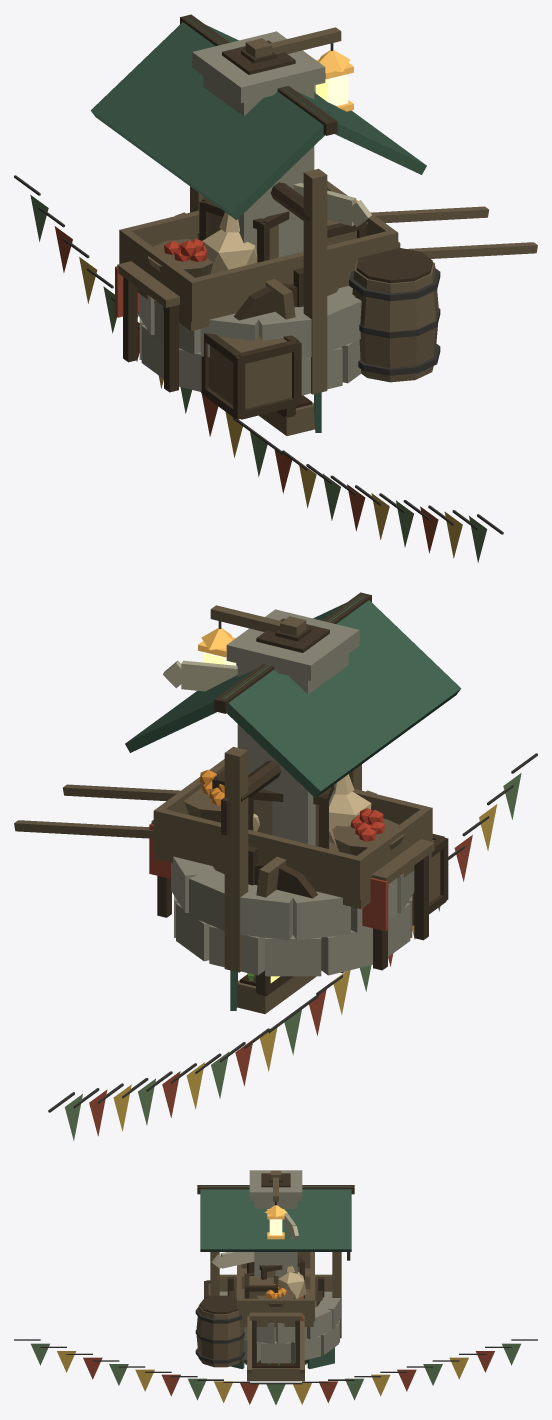
Rendered from mossgate-props.glb.
3 renders of one model, top to bottom at view 1: azimuth 30°, elevation 25°; view 2: azimuth 150°, elevation 25°; view 3: azimuth 270°, elevation 25°, orthographic. The views are drawn at different scales.
Parts seen in each view (by area): view 1: Well, StallCounter, Cart, Chimney, Bunting, LanternPost, CrateStack, WindowBox, Signpost, Bench; view 2: Well, Cart, StallCounter, Chimney, Bunting, LanternPost, WindowBox, Signpost, CrateStack, Bench; view 3: Well, Bunting, StallCounter, Cart, Chimney, WindowBox, Signpost, LanternPost, Bench, CrateStack.
Part boxes in pixels (x1,y1,x2,y2): Well: (90, 14, 426, 395); StallCounter: (115, 200, 440, 419); Cart: (119, 181, 537, 330); Chimney: (192, 31, 325, 257); Bunting: (14, 175, 503, 562); LanternPost: (245, 27, 353, 111); CrateStack: (199, 198, 289, 262); WindowBox: (259, 392, 321, 435); Signpost: (241, 49, 371, 227); Bench: (175, 212, 295, 319); Well: (125, 592, 461, 976); Cart: (14, 759, 432, 908); StallCounter: (149, 769, 448, 970); Chimney: (226, 609, 359, 845); Bunting: (48, 753, 537, 1140); LanternPost: (198, 605, 306, 665); WindowBox: (230, 970, 316, 1013); Signpost: (163, 627, 310, 787); CrateStack: (248, 785, 334, 848); Bench: (256, 790, 376, 897); Well: (197, 1185, 354, 1363); Bunting: (14, 1339, 537, 1404); StallCounter: (195, 1280, 303, 1367); Cart: (229, 1252, 322, 1373); Chimney: (249, 1170, 302, 1278); WindowBox: (230, 1347, 334, 1381); Signpost: (211, 1174, 298, 1268); LanternPost: (264, 1170, 287, 1239); Bench: (219, 1274, 332, 1307); CrateStack: (247, 1253, 304, 1298).
Size of the model in its own units: 3.95 by 4.42 by 9.01.
